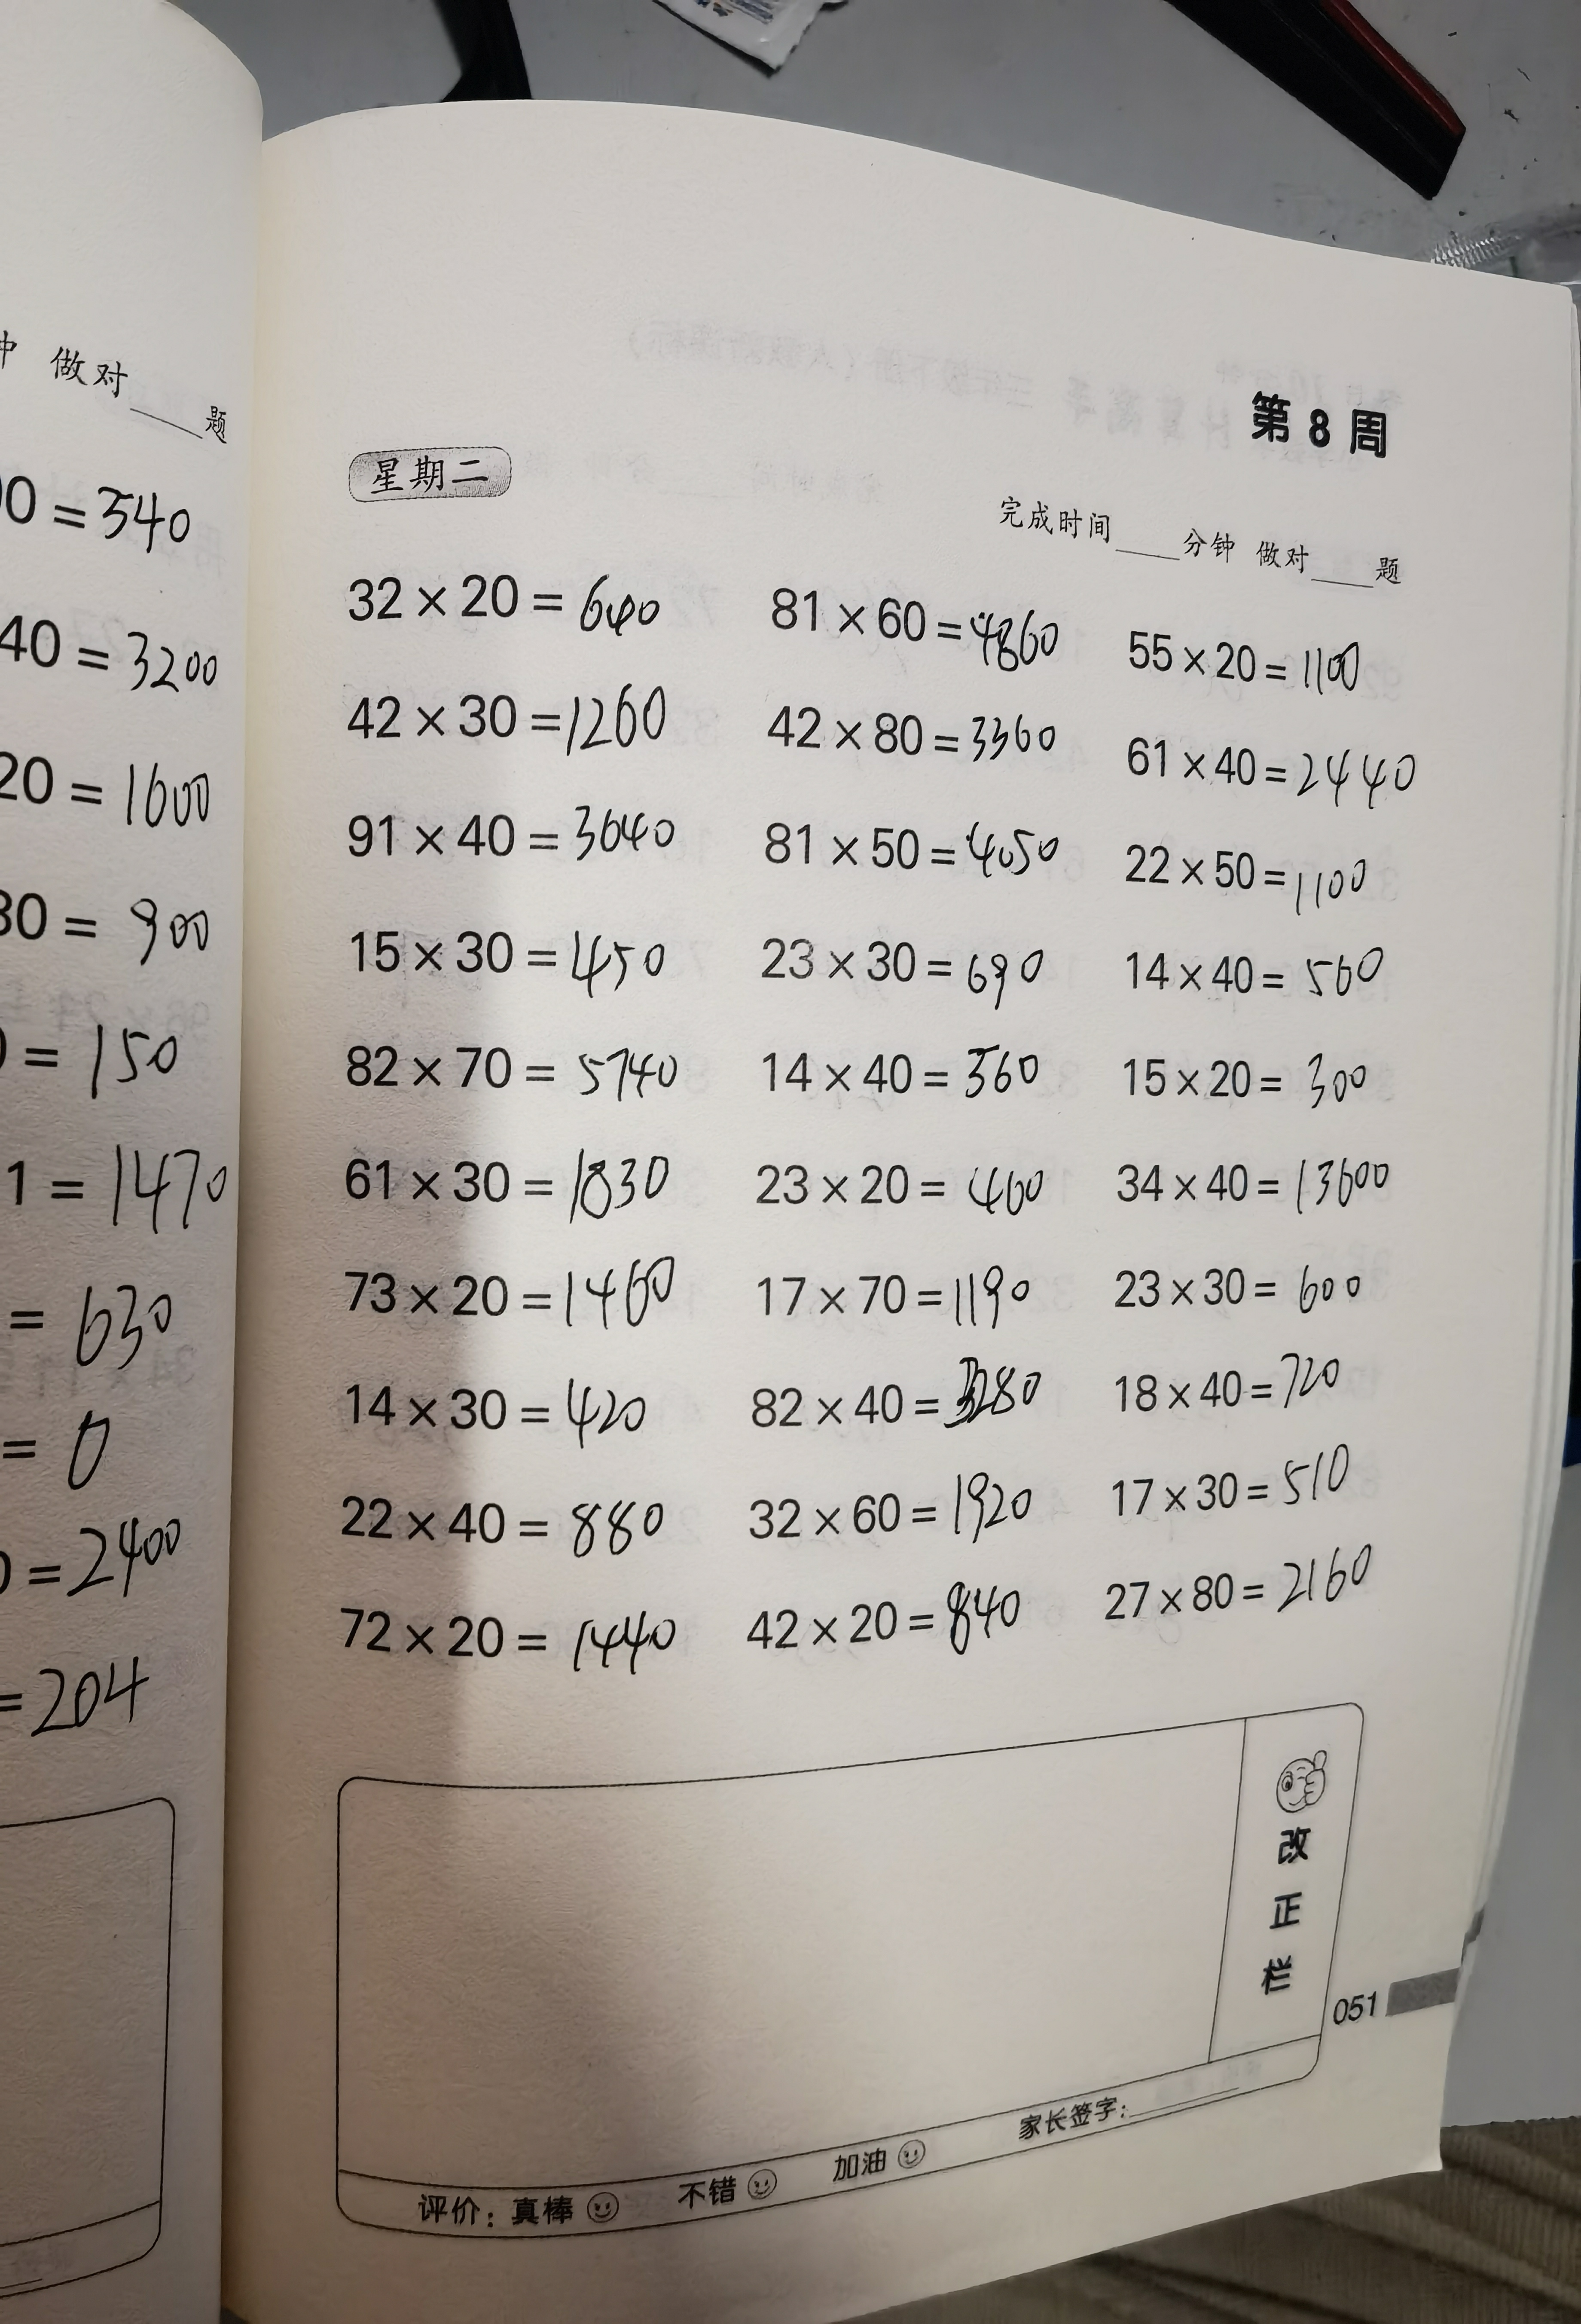equation: (752, 533, 1069, 679), (295, 1574, 697, 1685), (323, 1124, 683, 1233), (323, 1246, 725, 1341), (323, 549, 678, 655), (746, 799, 1085, 902), (302, 1472, 679, 1563), (349, 773, 681, 877), (339, 905, 697, 1001), (348, 1022, 701, 1117), (335, 674, 690, 766), (333, 1366, 688, 1458), (1089, 1548, 1390, 1652), (725, 1586, 1057, 1678), (1106, 718, 1431, 812), (729, 1145, 1071, 1228), (727, 1463, 1055, 1548), (1105, 1233, 1412, 1323), (748, 1036, 1069, 1119), (752, 1253, 1059, 1338), (1120, 828, 1392, 923), (745, 933, 1080, 1009), (1089, 1334, 1394, 1417), (761, 697, 1076, 776), (1113, 937, 1436, 1011), (729, 1369, 1048, 1443), (1129, 605, 1382, 697), (1120, 1036, 1405, 1117), (1096, 1428, 1383, 1502), (1119, 1149, 1408, 1218)
